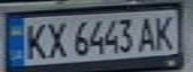3: (118, 15, 136, 54)
4: (87, 17, 106, 55), (103, 17, 121, 55)
6: (69, 17, 90, 56)
A: (136, 14, 160, 52)
K: (21, 19, 51, 61), (151, 11, 178, 51)
X: (42, 18, 69, 60)
